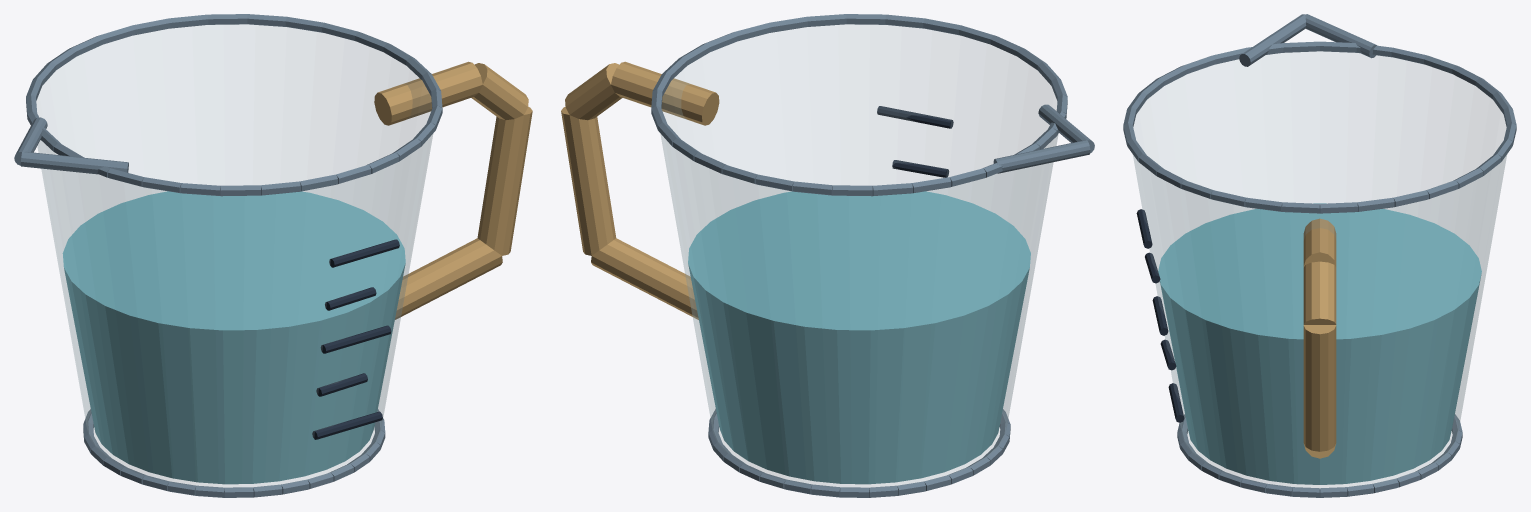
Rendered from jug.glb.
3 renders of one model, left to right at view 1: azimuth 30°, elevation 25°; view 2: azimuth 150°, elevation 25°; view 3: azimuth 270°, elevation 25°, orthographic. The views are drawn at different scales.
Parts seen in each view (by area): view 1: glass wall, liquid, handle2, handle3, handle0, handle1, pour lip0, tick 4, tick 2, tick 0, pour lip1; view 2: glass wall, liquid, handle2, handle3, handle0, handle1, pour lip1, pour lip0, tick 4; view 3: glass wall, liquid, handle2, handle1, handle0, pour lip0, pour lip1.
Part boxes in pixels (x1=…): glass wall: x1=37, y1=25, x2=432, y2=487; liquid: x1=62, y1=191, x2=405, y2=484; handle2: x1=477, y1=107, x2=532, y2=255; handle3: x1=395, y1=238, x2=502, y2=319; handle0: x1=374, y1=61, x2=482, y2=125; handle1: x1=471, y1=63, x2=528, y2=120; pour lip0: x1=20, y1=151, x2=128, y2=174; tick 4: x1=329, y1=239, x2=399, y2=267; tick 2: x1=320, y1=325, x2=391, y2=353; tick 0: x1=312, y1=411, x2=382, y2=439; pour lip1: x1=14, y1=117, x2=47, y2=165; glass wall: x1=660, y1=25, x2=1058, y2=487; liquid: x1=688, y1=191, x2=1030, y2=484; handle2: x1=561, y1=106, x2=616, y2=255; handle3: x1=591, y1=238, x2=698, y2=319; handle0: x1=611, y1=61, x2=719, y2=125; handle1: x1=565, y1=63, x2=622, y2=120; pour lip1: x1=993, y1=140, x2=1090, y2=173; pour lip0: x1=1038, y1=104, x2=1094, y2=152; tick 4: x1=877, y1=106, x2=953, y2=128; glass wall: x1=1133, y1=52, x2=1506, y2=488; liquid: x1=1158, y1=203, x2=1481, y2=484; handle2: x1=1303, y1=325, x2=1336, y2=451; handle1: x1=1303, y1=261, x2=1336, y2=324; handle0: x1=1303, y1=218, x2=1336, y2=266; pour lip0: x1=1239, y1=14, x2=1306, y2=66; pour lip1: x1=1305, y1=14, x2=1376, y2=58.
Bounding box in the file's own units: 1.89 × 1.19 × 1.31.
